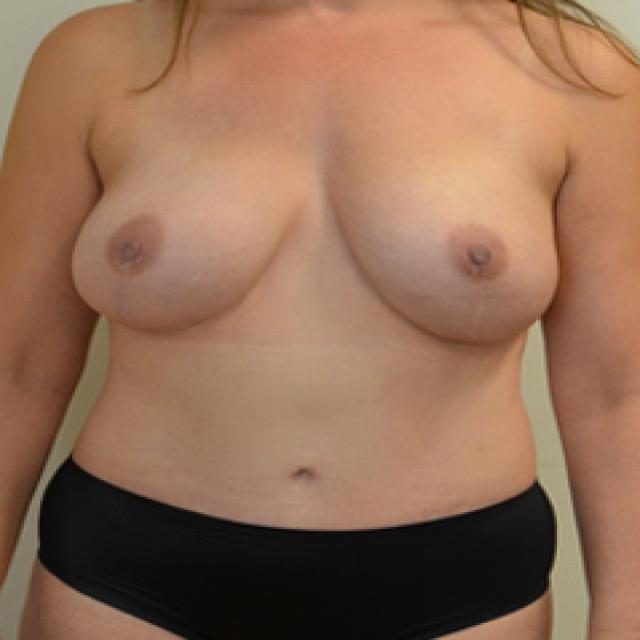Seno ileso: (318, 113, 574, 361), (60, 113, 311, 349)
